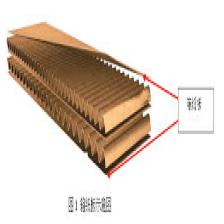cardboard: (6, 9, 166, 201)
